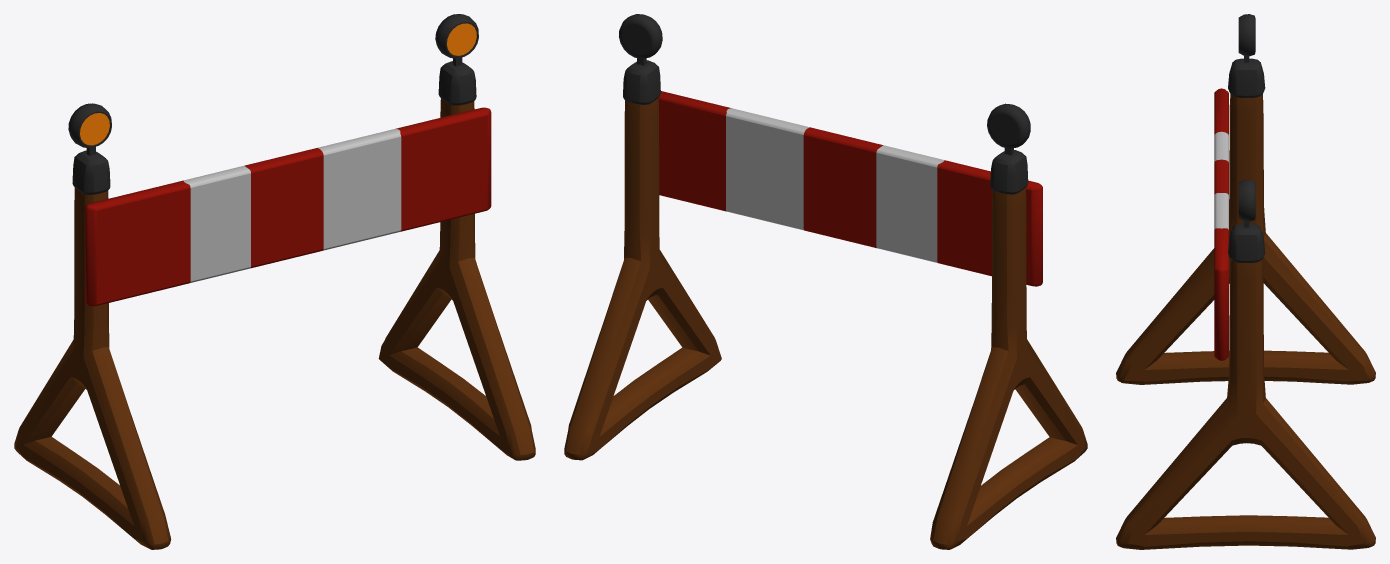
File: Vaya Up y Down.FBX
3 views of the same model, side by side, from view 1: azimuth 30°, elevation 25°; view 2: azimuth 150°, elevation 25°; view 3: azimuth 270°, elevation 25° (orthographic). The views are drawn at different scales.
Visible parts, largest first — view 1: Object001, Box005, Object002, Pivote; view 2: Box005, Object001, Object002, Pivote; view 3: Box005, Object001, Pivote, Object002.
Part boxes in pixels (x1=…): Object001: x1=85, y1=107, x2=491, y2=306; Box005: x1=14, y1=99, x2=535, y2=549; Object002: x1=68, y1=14, x2=478, y2=155; Pivote: x1=72, y1=61, x2=476, y2=194; Box005: x1=564, y1=98, x2=1087, y2=549; Object001: x1=658, y1=91, x2=1042, y2=286; Object002: x1=619, y1=14, x2=1030, y2=155; Pivote: x1=623, y1=60, x2=1028, y2=194; Box005: x1=1116, y1=94, x2=1375, y2=549; Object001: x1=1214, y1=88, x2=1228, y2=360; Pivote: x1=1228, y1=58, x2=1265, y2=262; Object002: x1=1238, y1=14, x2=1255, y2=227.
Size of the model in its own units: 151 by 140 by 90.23.
